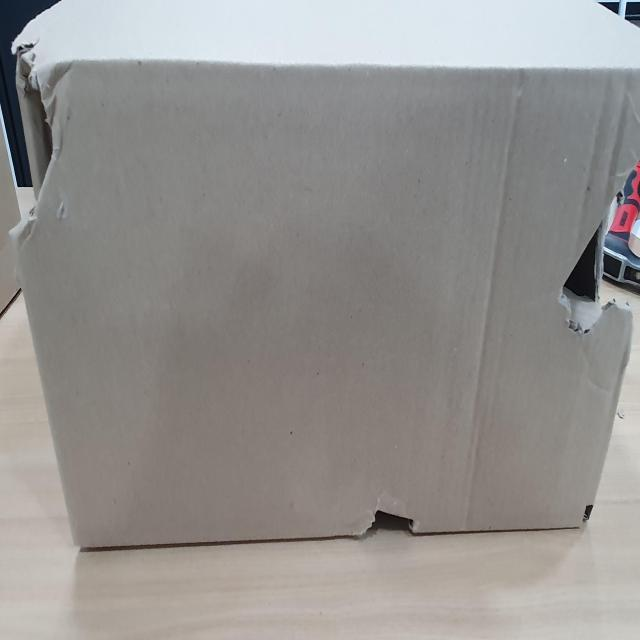damaged: (12, 54, 67, 217), (546, 202, 613, 320), (354, 501, 434, 538)
